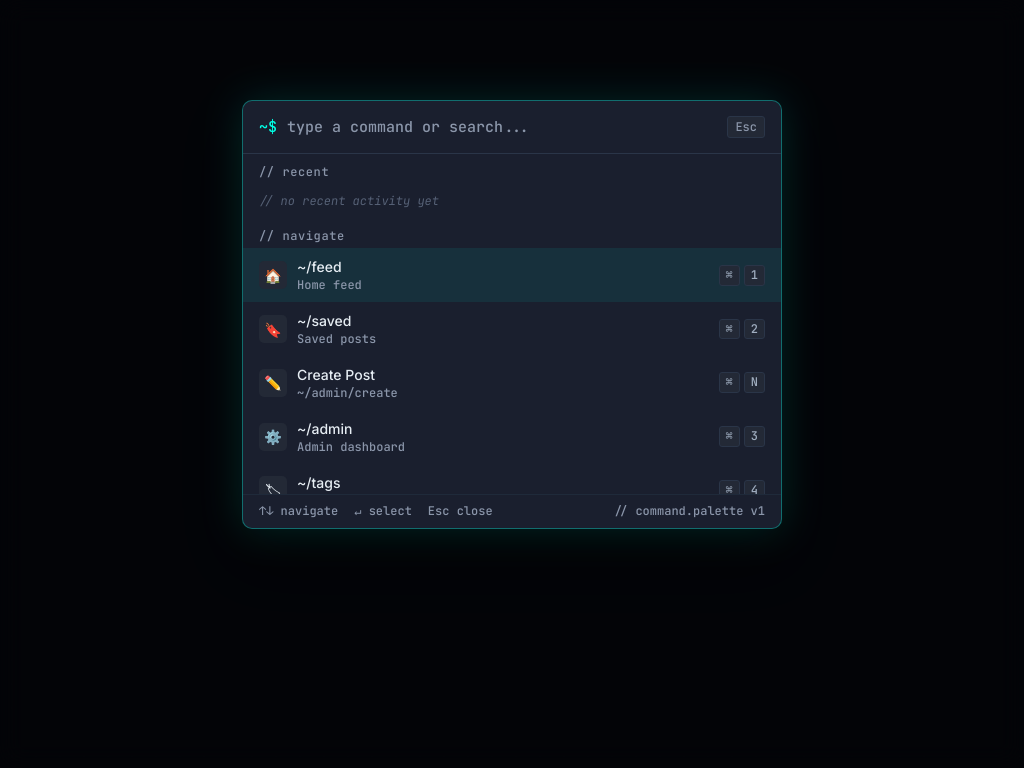
CommandPalette › empty state khi không match
The width and height of the screenshot is (1024, 768).
Type "xyzzy123" into the field with placeholder "type a command or search..." at (502, 127), box [287,115,717,139]
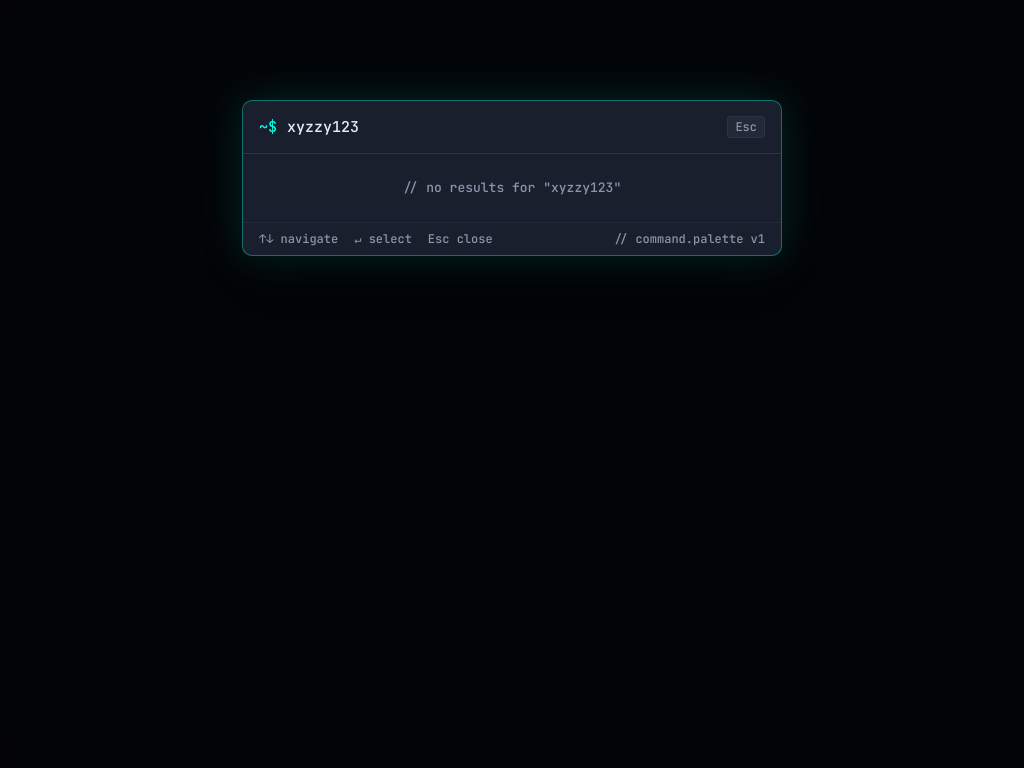
Now the text "// no results for \"xyzzy123\"" is shown, box [403,179,621,196]
